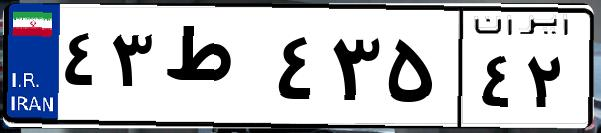2: (525, 38, 570, 115)
3: (330, 28, 385, 110), (110, 28, 158, 98)
4: (270, 28, 330, 110), (57, 26, 110, 100), (475, 38, 525, 113)
5: (385, 28, 445, 110)
ط: (158, 20, 270, 120)
